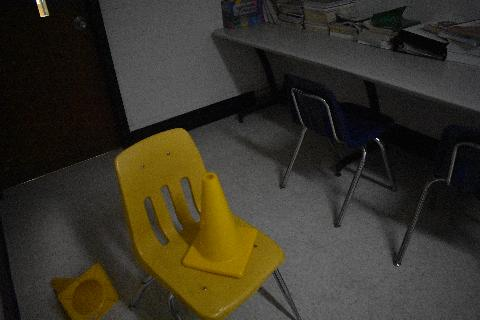cone: (182, 172, 258, 278), (50, 262, 120, 320)
